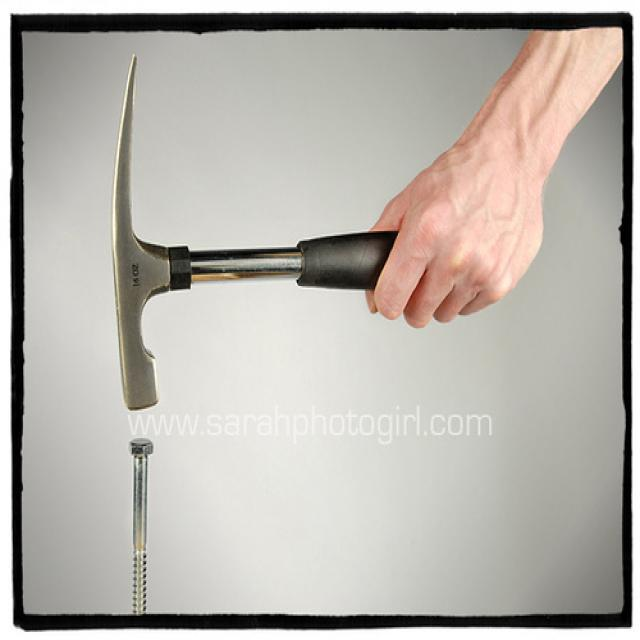hammer: (104, 46, 442, 417)
